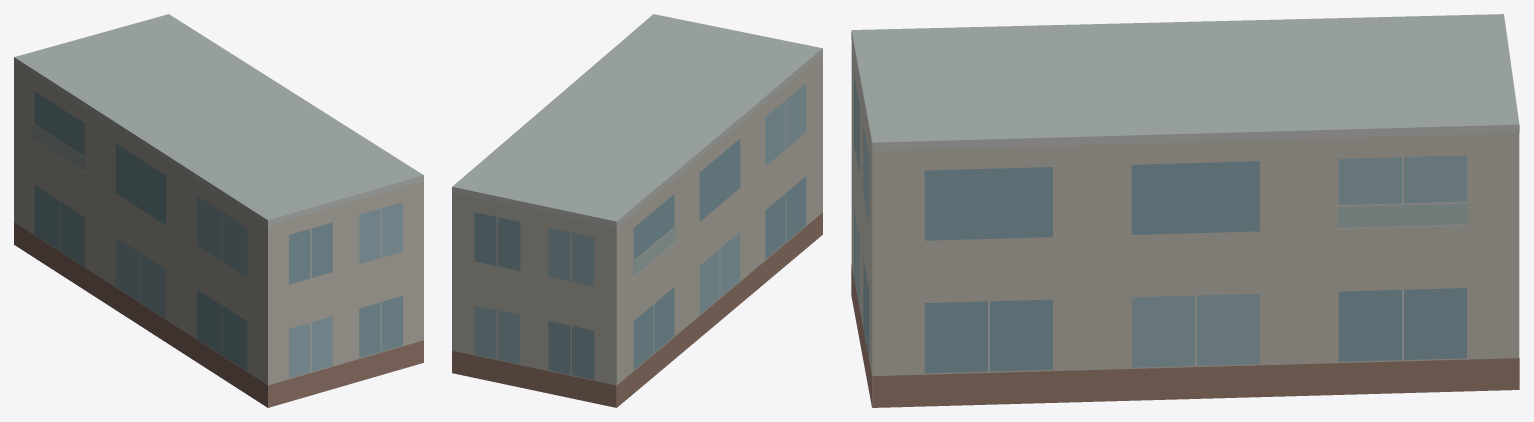
Rendered from survey-upis-32930678.glb.
3 views of the same model, side by side, from view 1: azimuth 30°, elevation 25°; view 2: azimuth 150°, elevation 25°; view 3: azimuth 270°, elevation 25° (orthographic). The views are drawn at different scales.
Parts seen in each view (by area): view 1: survey-upis-32930678.tmp; view 2: survey-upis-32930678.tmp; view 3: survey-upis-32930678.tmp.
Part boxes in pixels (box(x1,y1,x2,y2)): survey-upis-32930678.tmp: box(14, 14, 423, 407); survey-upis-32930678.tmp: box(452, 14, 822, 407); survey-upis-32930678.tmp: box(851, 14, 1519, 407).
Bounding box in the file's own units: 8.12 × 7.8 × 17.82.
